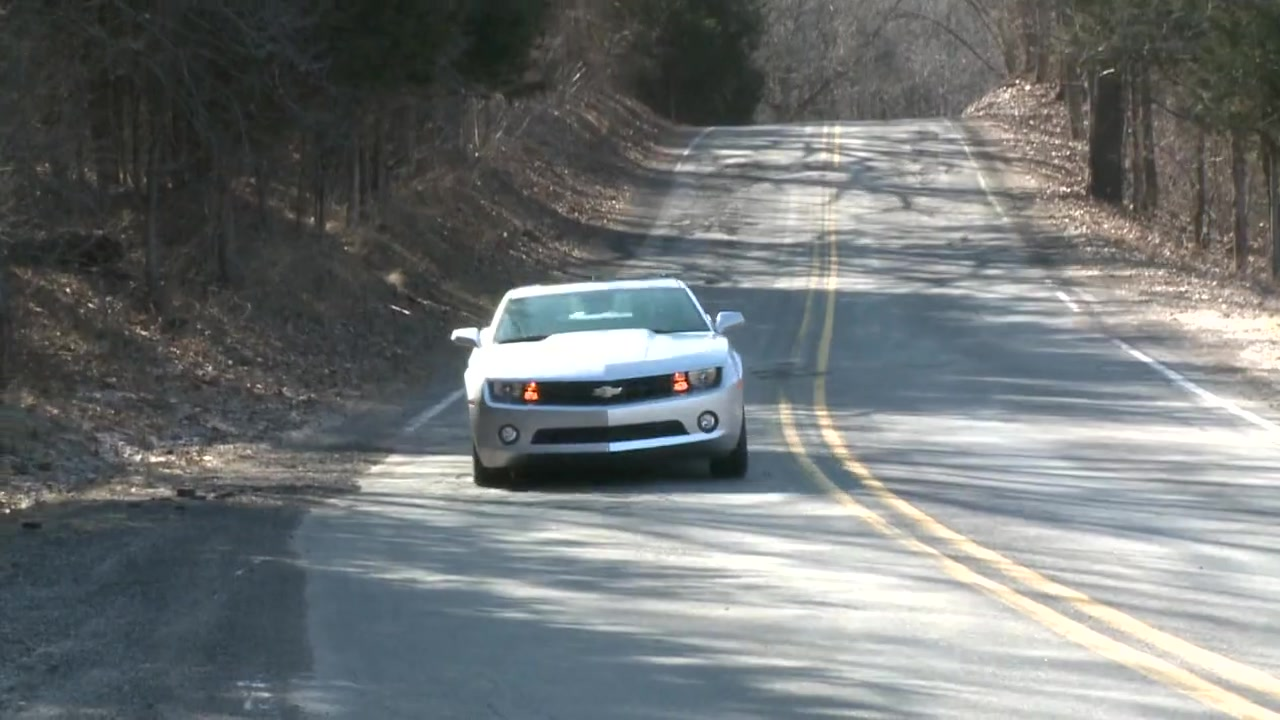car: (445, 277, 754, 486)
